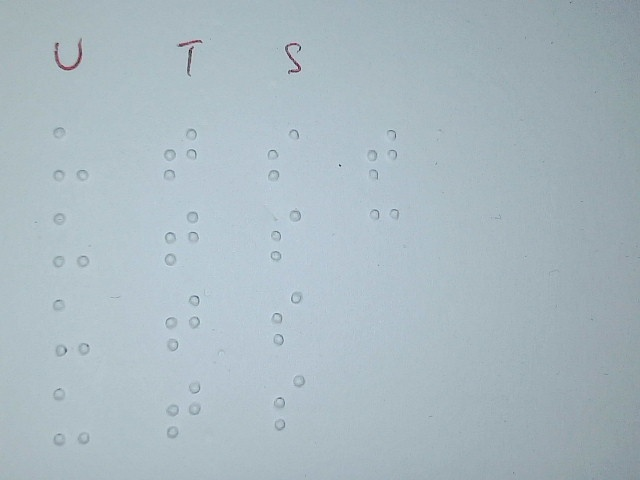S: (266, 125, 301, 183), (268, 206, 303, 264), (269, 289, 304, 347), (272, 373, 307, 431)
T: (165, 379, 202, 438), (161, 126, 199, 183), (163, 209, 201, 266), (164, 294, 202, 351)
U: (52, 297, 92, 356), (52, 387, 92, 446), (52, 125, 90, 182), (52, 210, 90, 267)
